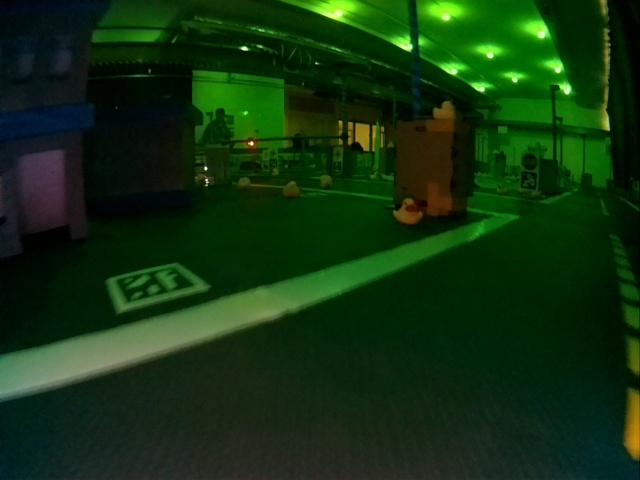Duckie: (396, 199, 420, 224), (433, 101, 450, 119), (283, 182, 297, 194), (318, 174, 328, 187), (237, 177, 247, 188)
QR code: (107, 265, 207, 311), (522, 172, 539, 191)
Stop sign: (520, 152, 536, 170)
Traffic light: (246, 138, 256, 147)
